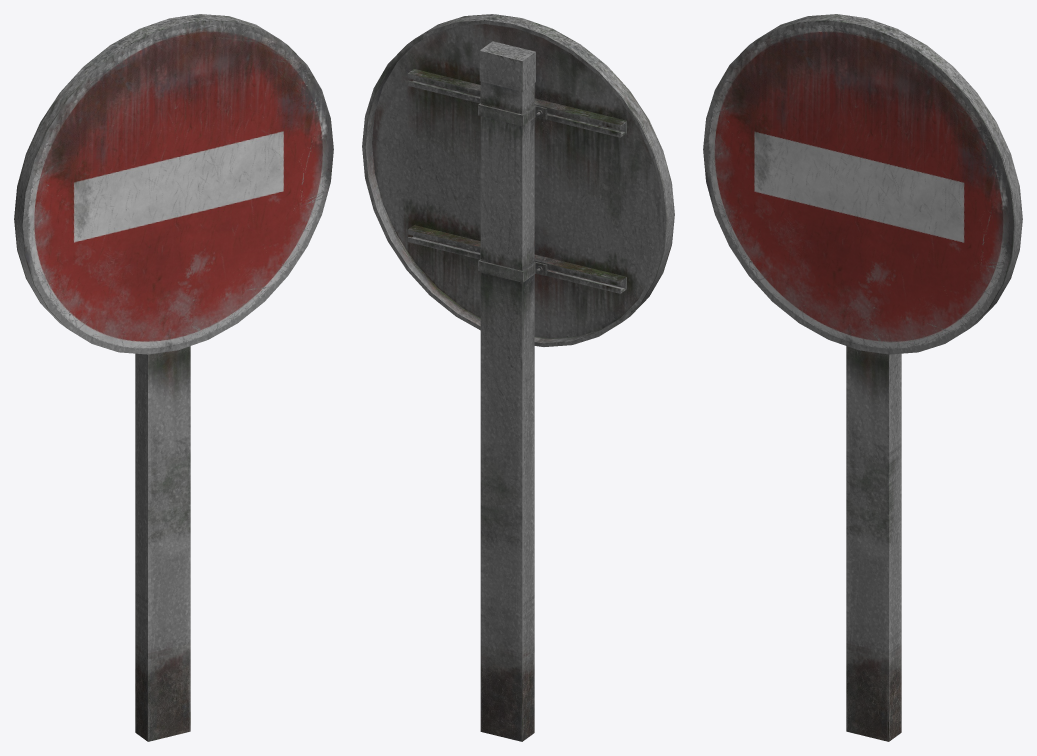
3 renders of one model, left to right at view 1: azimuth 30°, elevation 25°; view 2: azimuth 150°, elevation 25°; view 3: azimuth 330°, elevation 25°, orthographic. The views are drawn at different scales.
Parts seen in each view (by area): view 1: road_sign_low; view 2: road_sign_low; view 3: road_sign_low.
Part boxes in pixels (x1=…): road_sign_low: x1=14, y1=14, x2=333, y2=741; road_sign_low: x1=362, y1=14, x2=674, y2=741; road_sign_low: x1=703, y1=14, x2=1022, y2=741.
Bounding box in the file's own units: 0.9063 × 2 × 0.1143.
1 material, 1 textured.
